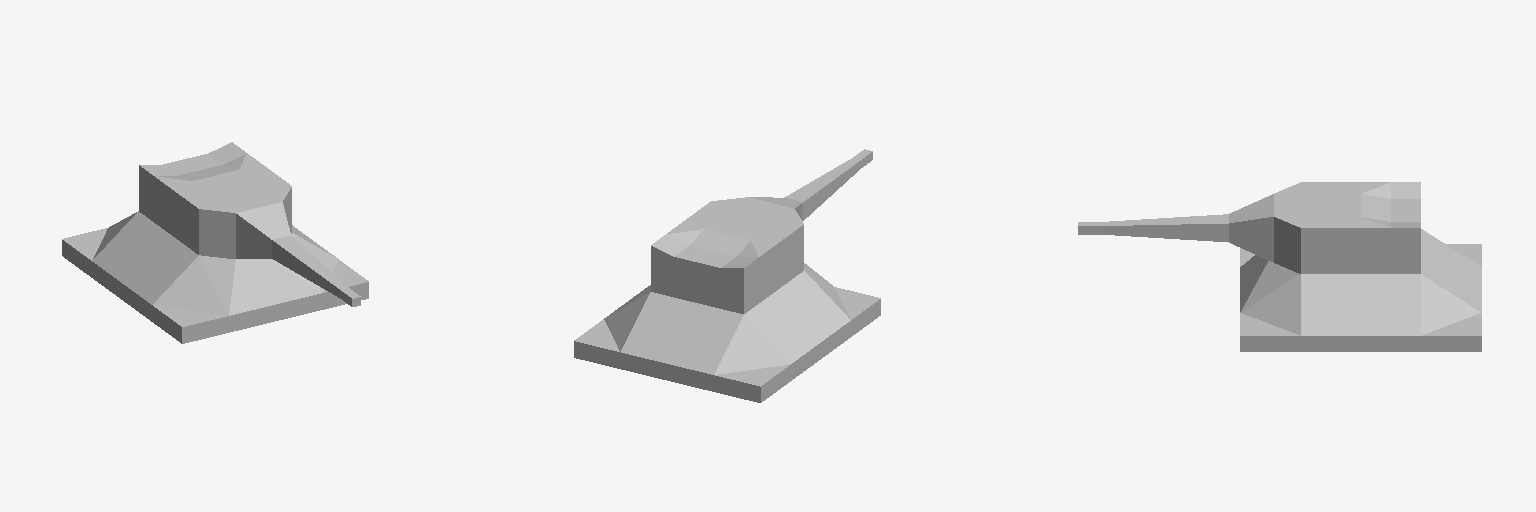
The model's file is tanktop3.obj.
The picture shows the model from 3 angles: view 1: azimuth 30°, elevation 25°; view 2: azimuth 150°, elevation 25°; view 3: azimuth 270°, elevation 25°; orthographic projection.
Parts seen in each view (by area): view 1: tanktop:pCube1; view 2: tanktop:pCube1; view 3: tanktop:pCube1.
Part boxes in pixels (left/top/right/bottom): tanktop:pCube1: left=62, top=142, right=368, bottom=343; tanktop:pCube1: left=574, top=149, right=880, bottom=402; tanktop:pCube1: left=1078, top=182, right=1481, bottom=351.
Size of the model in its own units: 2.05 by 1.07 by 3.84.